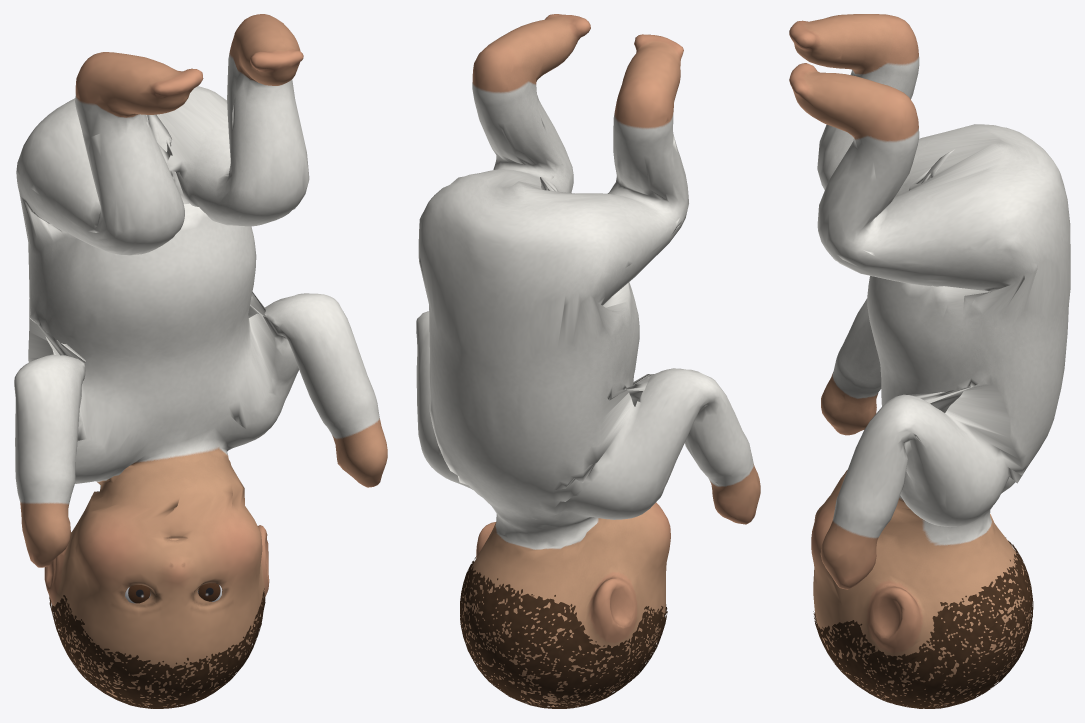
The model's file is ely_bebe_porte.obj.
The picture shows the model from 3 angles, left to right: view 1: azimuth 30°, elevation 25°; view 2: azimuth 150°, elevation 25°; view 3: azimuth 270°, elevation 25°; orthographic projection. The views are drawn at different scales.
Parts seen in each view (by area): view 1: ely_bebe_porte_corps, ely_bebe_porte_cheveux; view 2: ely_bebe_porte_corps, ely_bebe_porte_cheveux; view 3: ely_bebe_porte_corps, ely_bebe_porte_cheveux.
Boxes of the visible parts, <box> form: ely_bebe_porte_corps: <box>14,14,387,706</box>; ely_bebe_porte_cheveux: <box>49,588,265,708</box>; ely_bebe_porte_corps: <box>416,14,760,706</box>; ely_bebe_porte_cheveux: <box>460,556,667,708</box>; ely_bebe_porte_corps: <box>789,14,1070,706</box>; ely_bebe_porte_cheveux: <box>813,537,1033,708</box>.
Size of the model in its own units: 0.2271 by 0.4141 by 0.1613.
3 materials, 3 textured.
